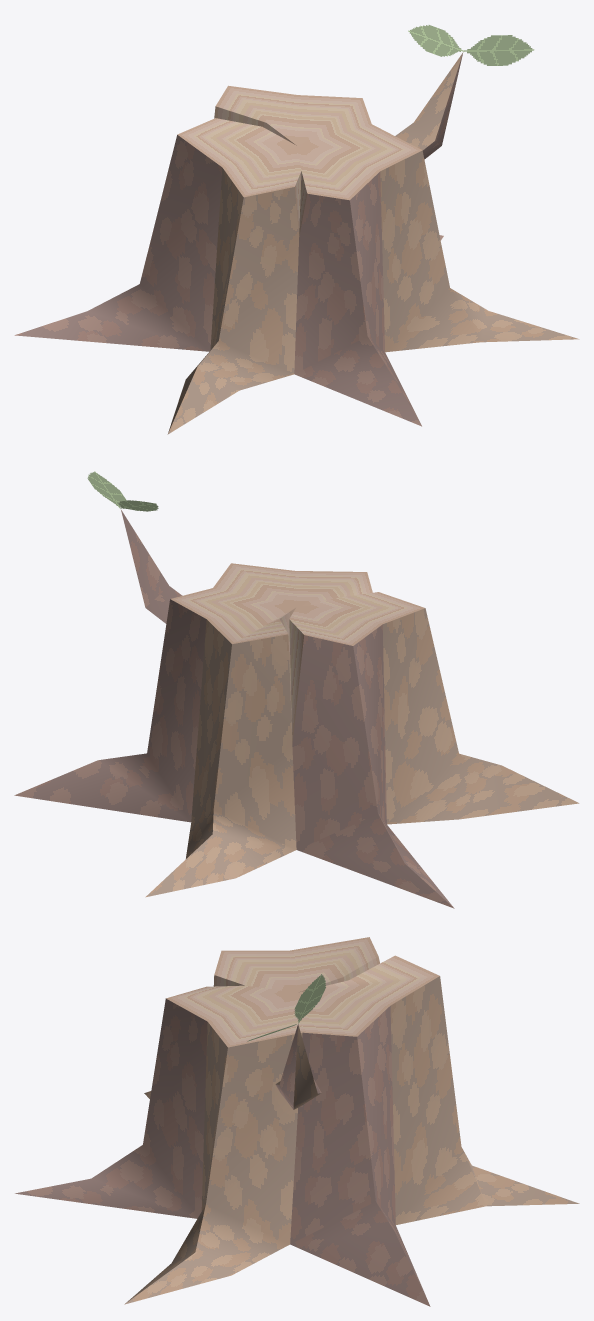
File: 02fb_Tree_Stump.glb
3 views of the same model, one above another, from view 1: azimuth 30°, elevation 25°; view 2: azimuth 150°, elevation 25°; view 3: azimuth 270°, elevation 25° (orthographic). The views are drawn at different scales.
Parts seen in each view (by area): view 1: part_0; view 2: part_0; view 3: part_0.
Boxes of the visible parts, left/top/right/bottom form: part_0: left=14, top=25, right=579, bottom=434; part_0: left=14, top=471, right=579, bottom=908; part_0: left=15, top=937, right=579, bottom=1306.
Bounding box in the file's own units: 0.4986 × 0.2954 × 0.5026.
Materials: 1 (1 with a texture image).
